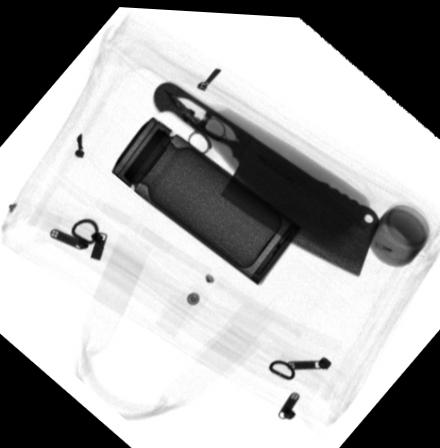Knife: (153, 77, 381, 273)
Scissors: (162, 84, 226, 156)
